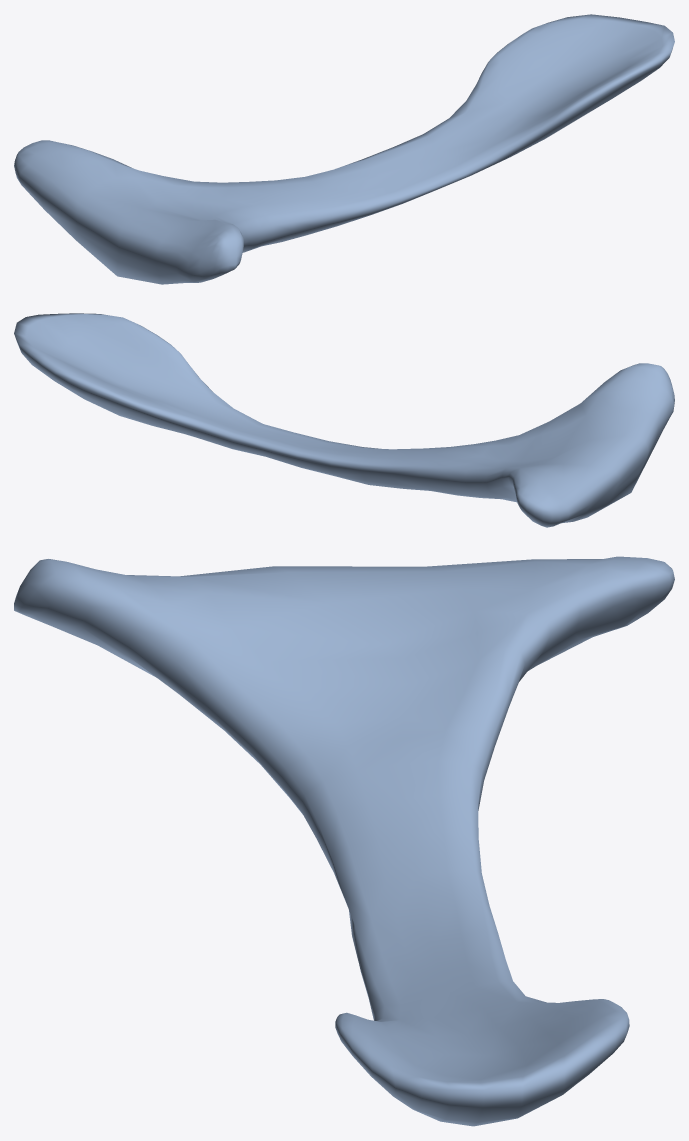
Rendered from junRoadRameBig.fbx.
3 views of the same model, one above another, from view 1: azimuth 30°, elevation 25°; view 2: azimuth 150°, elevation 25°; view 3: azimuth 270°, elevation 25° (orthographic). The views are drawn at different scales.
Parts seen in each view (by area): view 1: rameBig_LOD0; view 2: rameBig_LOD0; view 3: rameBig_LOD0.
Boxes of the visible parts, x1,y1,x2,y2 form: rameBig_LOD0: [14, 14, 674, 284]; rameBig_LOD0: [14, 313, 674, 527]; rameBig_LOD0: [14, 556, 674, 1126].
Bounding box in the file's own units: 1454 × 236 × 714.
